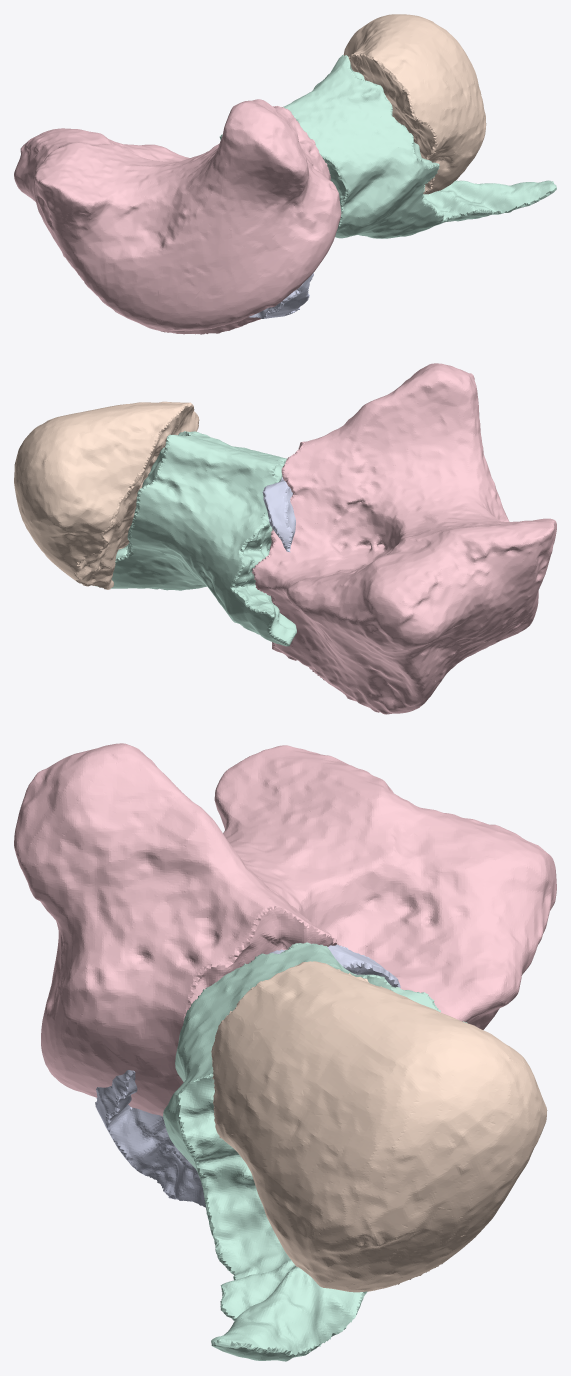
The model's file is AMNH_216242_Galago-crassicaudatus_Left-Ast_Smooth_colored.glb.
3 renders of one model, top to bottom at view 1: azimuth 30°, elevation 25°; view 2: azimuth 150°, elevation 25°; view 3: azimuth 270°, elevation 25°, orthographic. The views are drawn at different scales.
Visible parts, largest first — view 1: world; view 2: world; view 3: world.
Boxes of the visible parts, x1,y1,x2,y2 form: world: (14, 14, 556, 334); world: (14, 363, 556, 714); world: (14, 743, 556, 1361).
Size of the model in its own units: 1.05 by 0.5354 by 0.5828.
